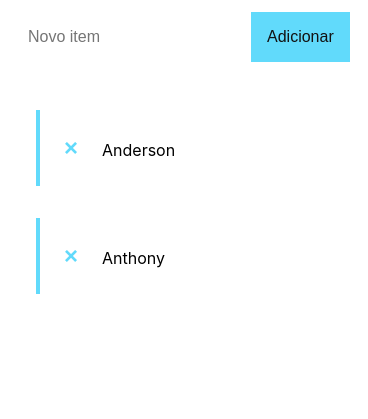
Test: List component › should be able to add new item to the list
In the field with test id "input_new_item": (132, 37) [12,12,251,62], type "Novo"
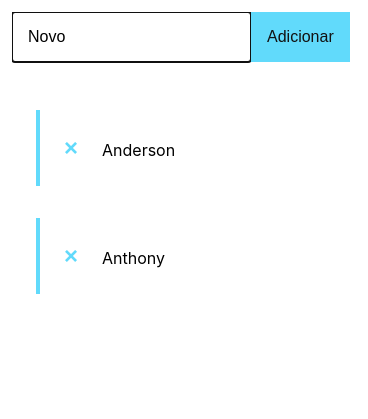
Click the button "Adicionar": (300, 37) [251,12,350,62]
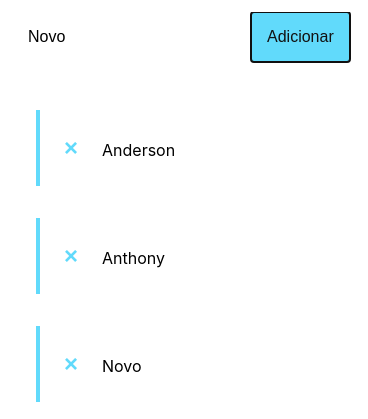
Now the list item "Novo" is shown, box [102,356,142,376]
